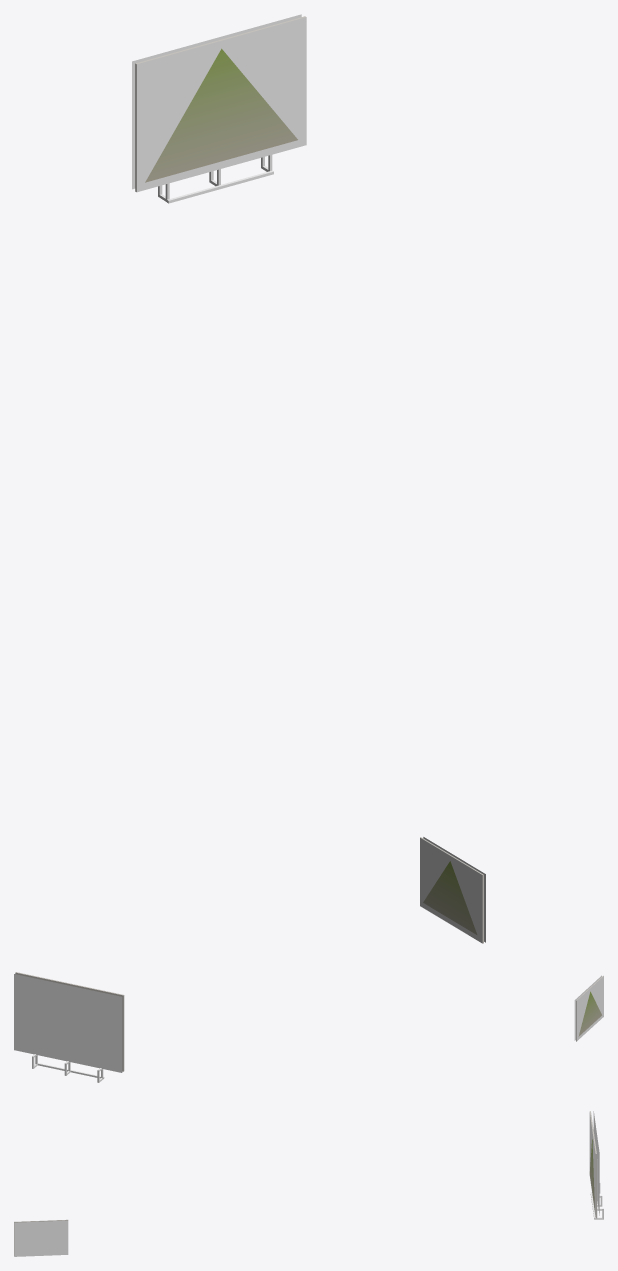
File: eca_midgrade_dealership_main.dae
3 views of the same model, one above another, from view 1: azimuth 30°, elevation 25°; view 2: azimuth 150°, elevation 25°; view 3: azimuth 270°, elevation 25° (orthographic). The views are drawn at different scales.
Parts seen in each view (by area): view 1: eca_midgrade_dealership_main_a300, eca_midgrade_dealership_main_a30, eca_midgrade_dealership_main_a80; view 2: eca_midgrade_dealership_main_a30, eca_midgrade_dealership_main_a300; view 3: eca_midgrade_dealership_main_a30, eca_midgrade_dealership_main_a300.
Boxes of the visible parts, bbox=[...] form: eca_midgrade_dealership_main_a300: bbox=[135, 16, 483, 943]; eca_midgrade_dealership_main_a30: bbox=[132, 14, 485, 943]; eca_midgrade_dealership_main_a80: bbox=[137, 18, 306, 191]; eca_midgrade_dealership_main_a30: bbox=[14, 974, 603, 1072]; eca_midgrade_dealership_main_a300: bbox=[15, 972, 603, 1082]; eca_midgrade_dealership_main_a30: bbox=[14, 1111, 599, 1256]; eca_midgrade_dealership_main_a300: bbox=[14, 1111, 603, 1255].
Size of the model in its own units: 8.15 by 20.13 by 7.56.
